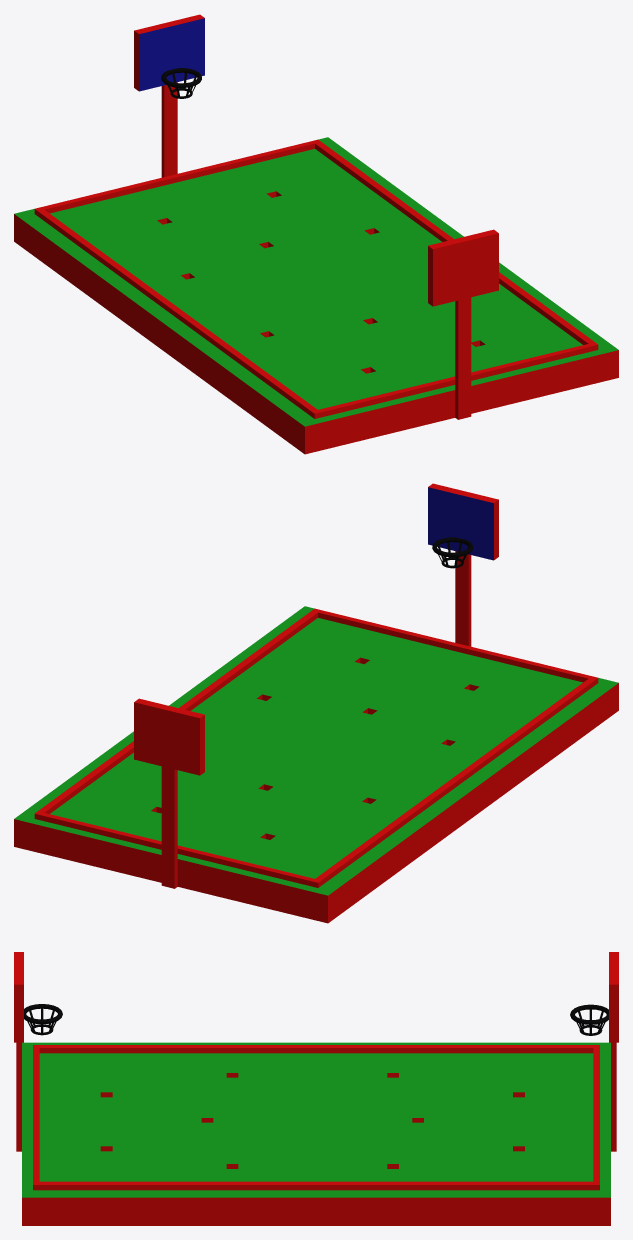
Rendered from SM_BasketTerrain.fbx.
The picture shows the model from 3 angles, top to bottom: view 1: azimuth 30°, elevation 25°; view 2: azimuth 150°, elevation 25°; view 3: azimuth 270°, elevation 25°; orthographic projection.
Visible parts, largest first — view 1: polySurface35; view 2: polySurface35; view 3: polySurface35.
Boxes of the visible parts, box(x1,y1,x2,y2) form: polySurface35: box(14, 14, 618, 454); polySurface35: box(14, 483, 618, 923); polySurface35: box(14, 952, 618, 1225).
Bounding box in the file's own units: 31.25 × 16.9 × 51.49.
